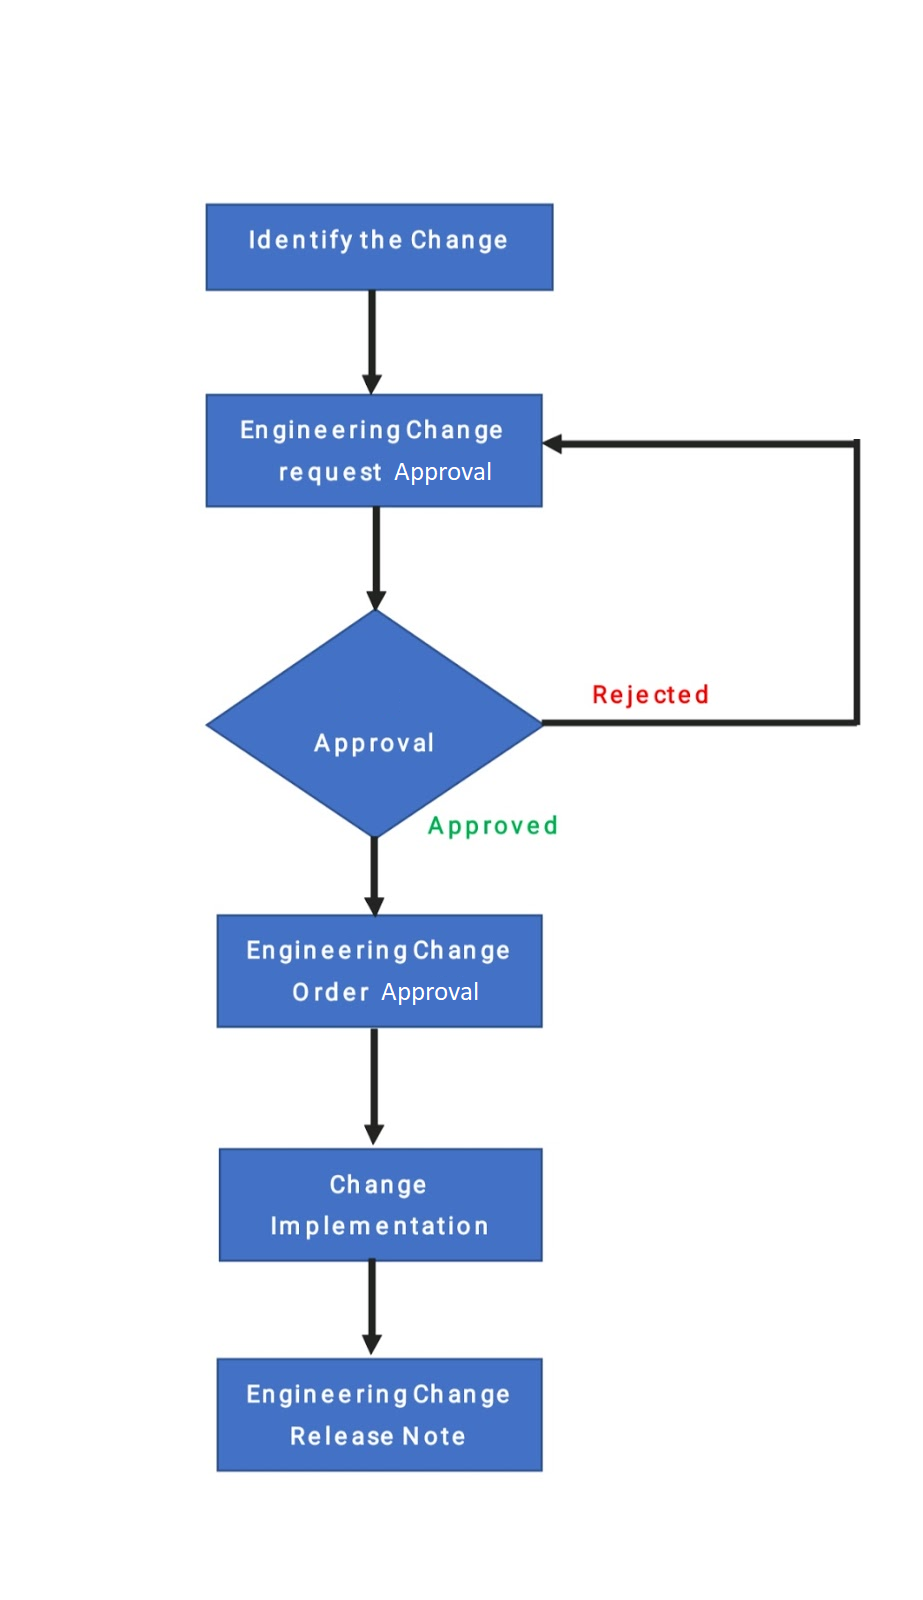arrow: (525, 424, 872, 738), (355, 1021, 392, 1148), (355, 285, 389, 399), (362, 496, 394, 613), (354, 821, 387, 929), (356, 1252, 389, 1357)
decision: (194, 598, 551, 845)
process: (194, 382, 551, 514), (208, 1351, 552, 1485), (210, 1140, 547, 1271), (210, 905, 554, 1033), (199, 197, 561, 297)
text: (227, 405, 511, 496), (240, 1377, 525, 1458), (238, 929, 516, 1009), (267, 1164, 503, 1245), (234, 224, 512, 263), (588, 677, 718, 719), (415, 812, 554, 848), (300, 726, 444, 760)
